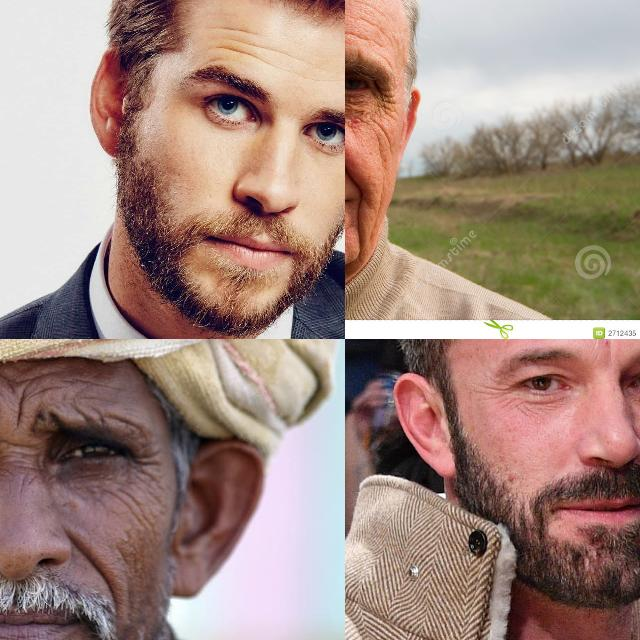crows_feet: (480, 374, 512, 406), (130, 448, 158, 479), (376, 88, 398, 119)
forehead: (218, 26, 264, 62), (281, 53, 325, 85), (345, 23, 375, 45), (69, 372, 101, 392), (0, 369, 29, 388), (31, 380, 59, 396), (345, 0, 371, 12)
frown_line: (599, 339, 618, 372), (14, 394, 28, 426)
gummy_smile: (75, 537, 108, 593), (345, 156, 367, 194)
masseter: (377, 122, 395, 154)
sad_smile: (345, 205, 369, 249)
